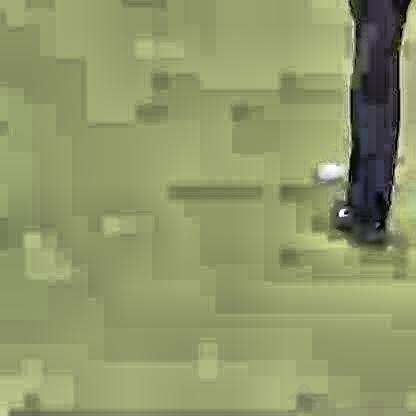golfball: (314, 160, 337, 180)
